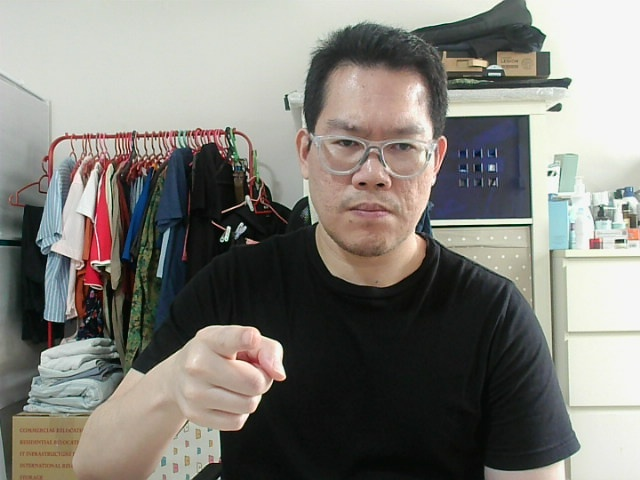you: (189, 333, 281, 420)
